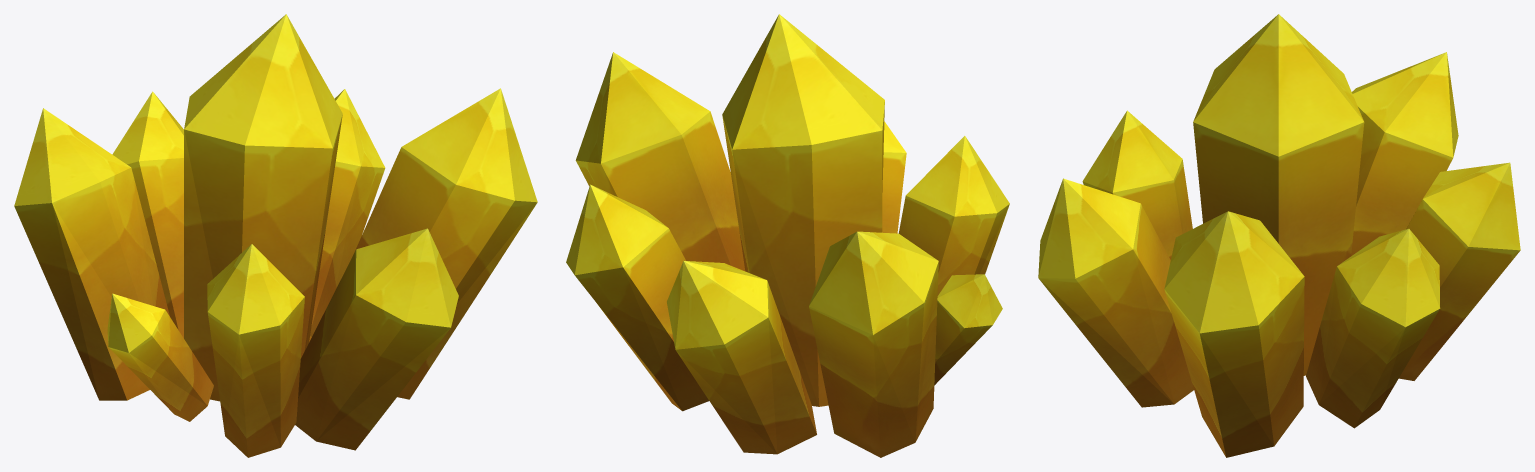
File: caiji_jk.FBX
The picture shows the model from 3 angles, left to right: view 1: azimuth 30°, elevation 25°; view 2: azimuth 150°, elevation 25°; view 3: azimuth 270°, elevation 25°; orthographic projection.
Visible parts, largest first — view 1: caiji_jk; view 2: caiji_jk; view 3: caiji_jk.
Boxes of the visible parts, bbox=[...] form: caiji_jk: bbox=[14, 14, 537, 457]; caiji_jk: bbox=[566, 14, 1009, 457]; caiji_jk: bbox=[1038, 14, 1520, 457].
Size of the model in its own units: 37.59 by 36.86 by 33.37.
